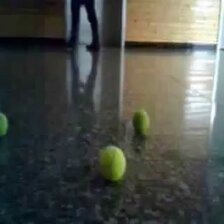tennis: (98, 145, 125, 182), (132, 109, 151, 135), (1, 110, 8, 138)
